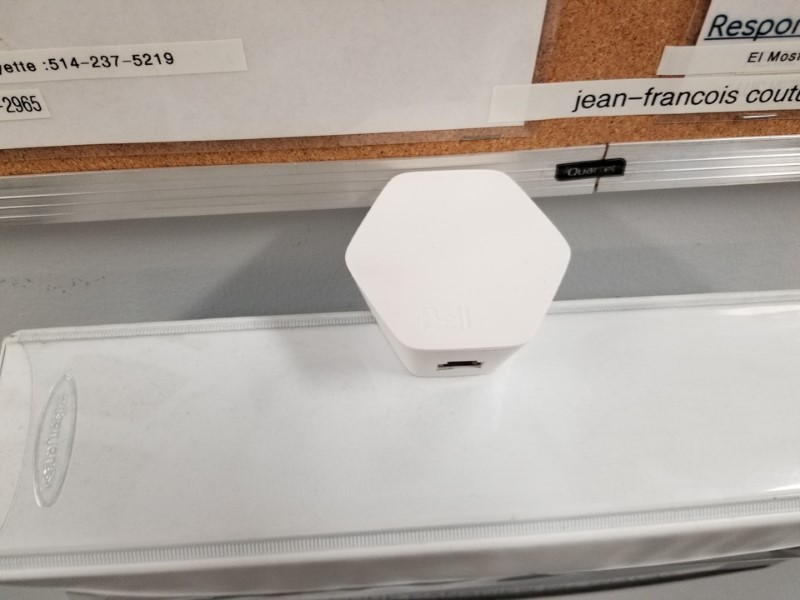pod: (343, 166, 579, 382)
